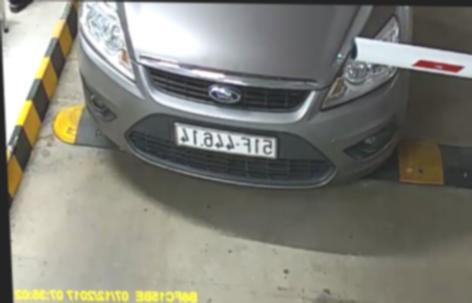License_Plate: (172, 126, 287, 157)
